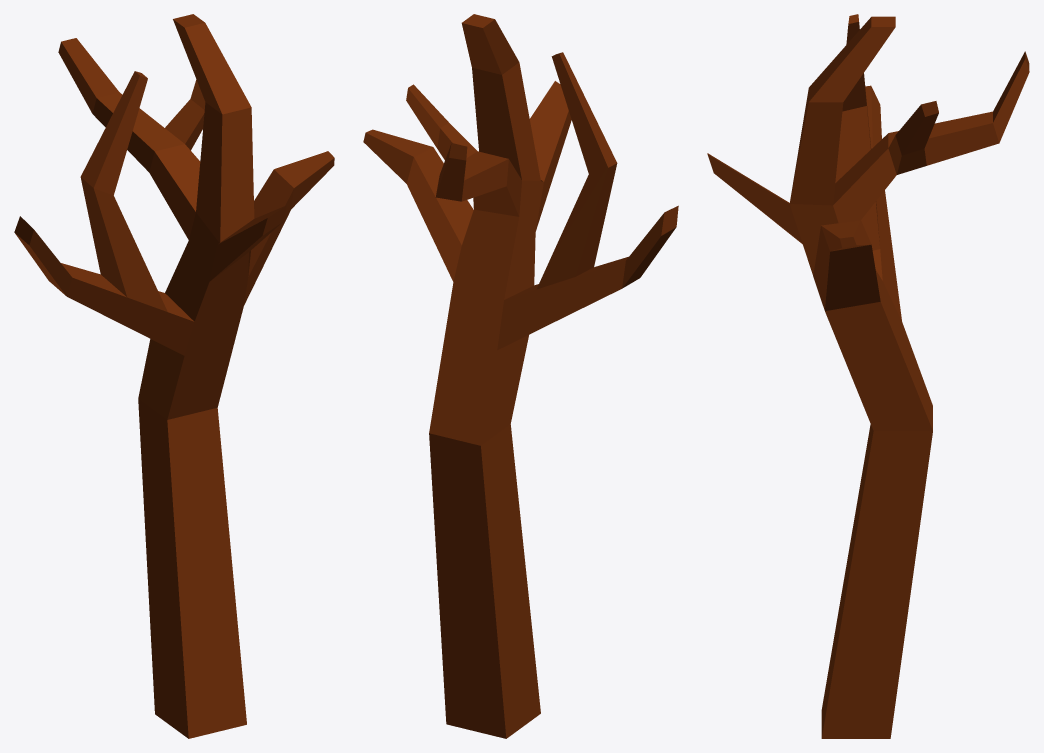
File: Dead_Tree4.fbx
The picture shows the model from 3 angles, left to right: view 1: azimuth 30°, elevation 25°; view 2: azimuth 150°, elevation 25°; view 3: azimuth 270°, elevation 25°; orthographic projection. The views are drawn at different scales.
Parts seen in each view (by area): view 1: Cube; view 2: Cube; view 3: Cube.
Boxes of the visible parts, bbox=[...] form: Cube: bbox=[14, 14, 334, 738]; Cube: bbox=[363, 14, 678, 738]; Cube: bbox=[707, 14, 1029, 738].
Bounding box in the file's own units: 326 × 710 × 295.
